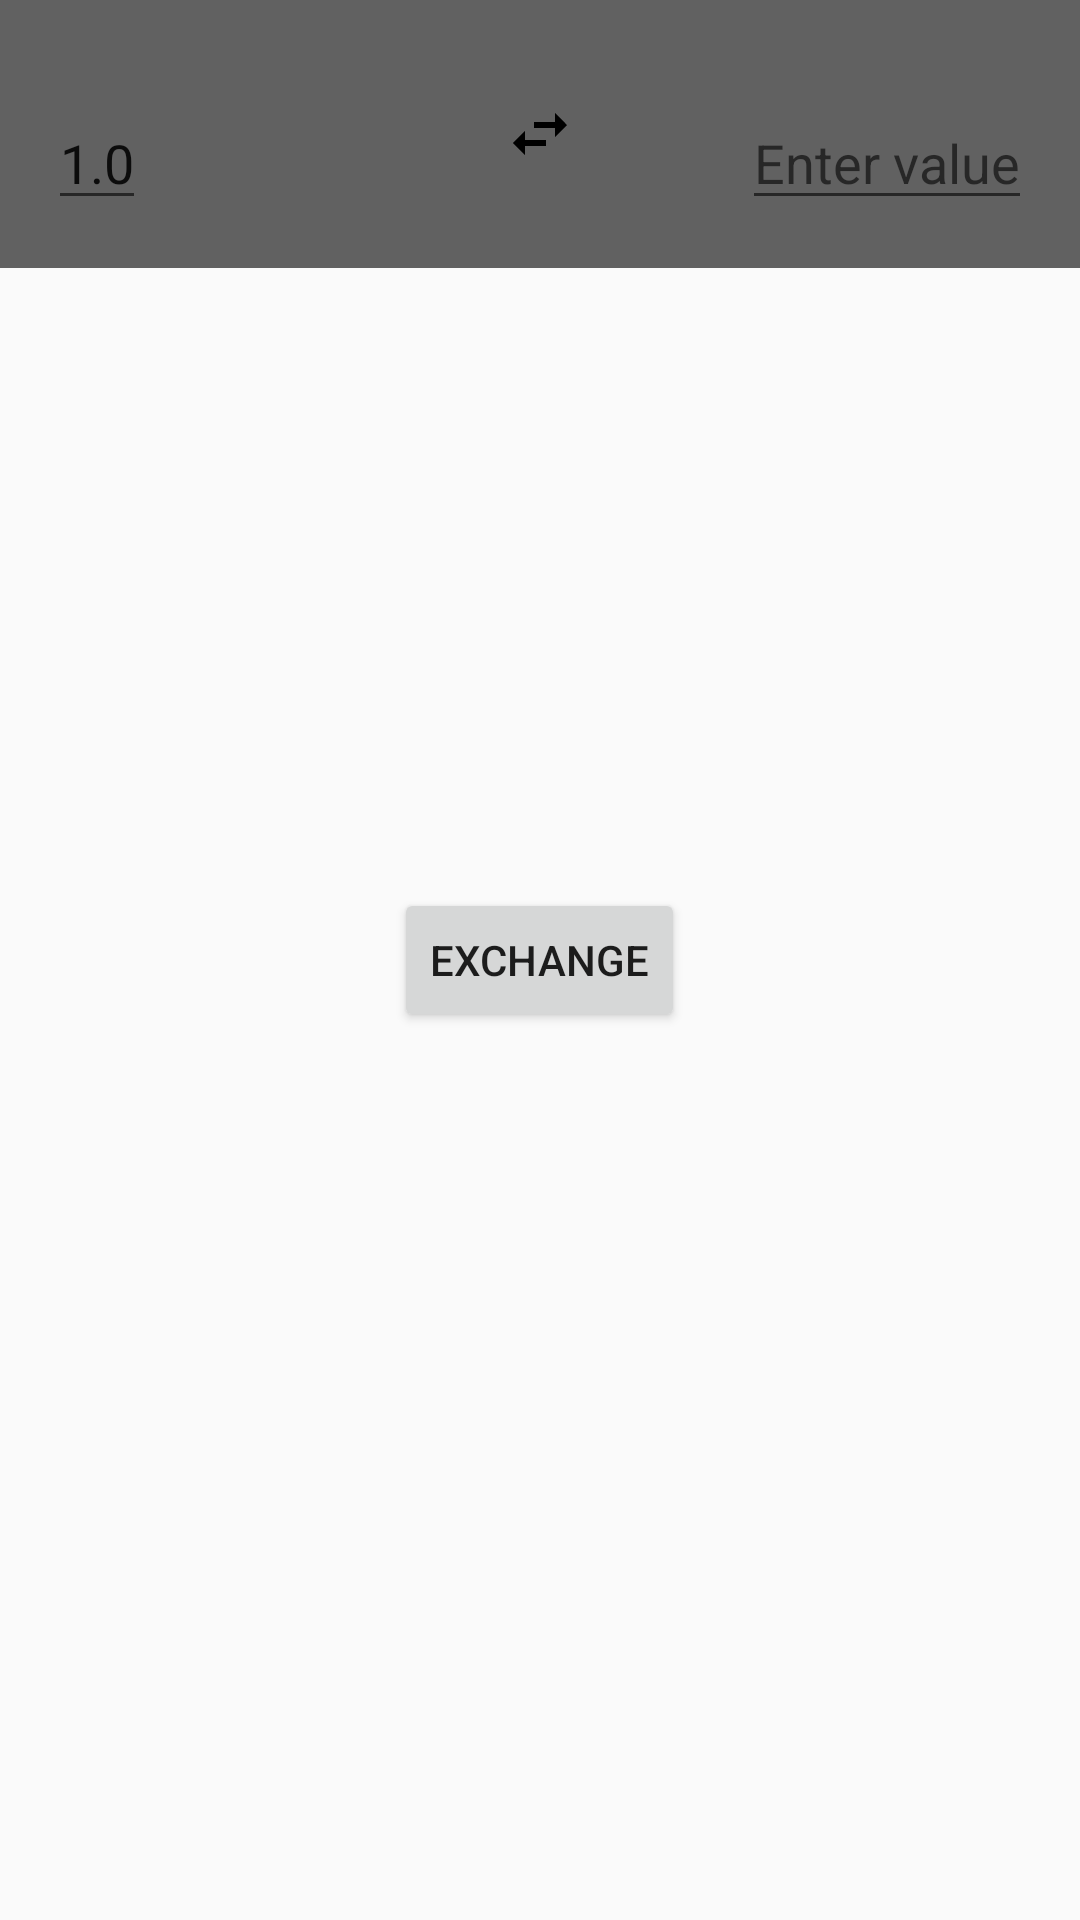

Icons on this 1080x1920 Android screen, each with the point to tap as [x,y]:
Swap button: [540,134]
